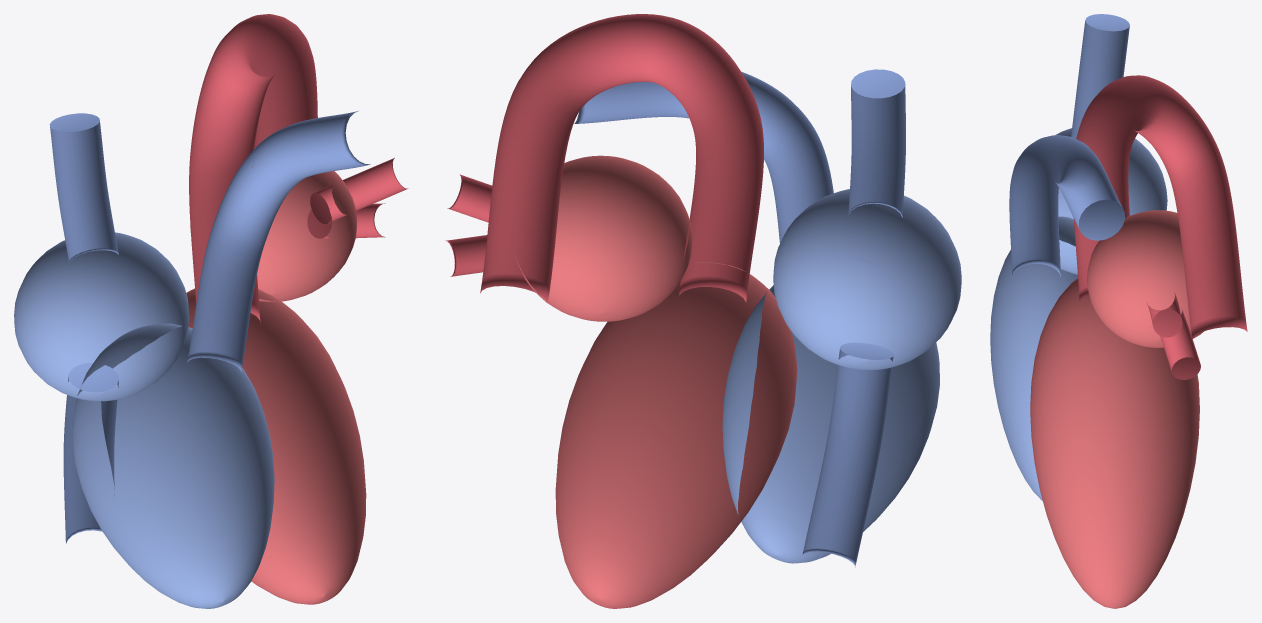
Rendered from human_heart_v1.glb.
3 renders of one model, left to right at view 1: azimuth 30°, elevation 25°; view 2: azimuth 150°, elevation 25°; view 3: azimuth 270°, elevation 25°, orthographic. The views are drawn at different scales.
Visible parts, largest first — view 1: right_ventricle, left_ventricle, right_atrium, aorta, pulmonary_trunk, left_atrium, superior_vena_cava, inferior_vena_cava, pulmonary_veins; view 2: left_ventricle, aorta, right_atrium, right_ventricle, left_atrium, inferior_vena_cava, pulmonary_trunk, superior_vena_cava, pulmonary_veins; view 3: left_ventricle, aorta, pulmonary_trunk, left_atrium, right_ventricle, superior_vena_cava, right_atrium, pulmonary_veins.
Boxes of the visible parts, x1,y1,x2,y2 form: right_ventricle: (72, 323, 274, 608); left_ventricle: (186, 288, 366, 604); right_atrium: (14, 232, 189, 401); aorta: (189, 14, 317, 321); pulmonary_trunk: (187, 111, 370, 372); left_atrium: (190, 171, 356, 301); superior_vena_cava: (49, 113, 118, 264); inferior_vena_cava: (63, 363, 118, 543); pulmonary_veins: (307, 158, 408, 238); left_ventricle: (555, 262, 797, 608); aorta: (480, 14, 763, 303); right_atrium: (773, 189, 961, 370); right_ventricle: (722, 258, 939, 563); left_atrium: (513, 155, 692, 321); inferior_vena_cava: (802, 342, 893, 567); pulmonary_trunk: (574, 72, 833, 243); superior_vena_cava: (848, 69, 905, 217); pulmonary_veins: (445, 174, 492, 276); left_ventricle: (1030, 278, 1199, 608); aorta: (1072, 75, 1247, 338); pulmonary_trunk: (1009, 135, 1124, 276); left_atrium: (1087, 210, 1203, 347); right_ventricle: (990, 216, 1077, 500); superior_vena_cava: (1071, 14, 1129, 138); right_atrium: (1056, 128, 1167, 274); pulmonary_veins: (1147, 292, 1200, 379).
Size of the model in its own units: 2.3 by 2.97 by 1.37.
